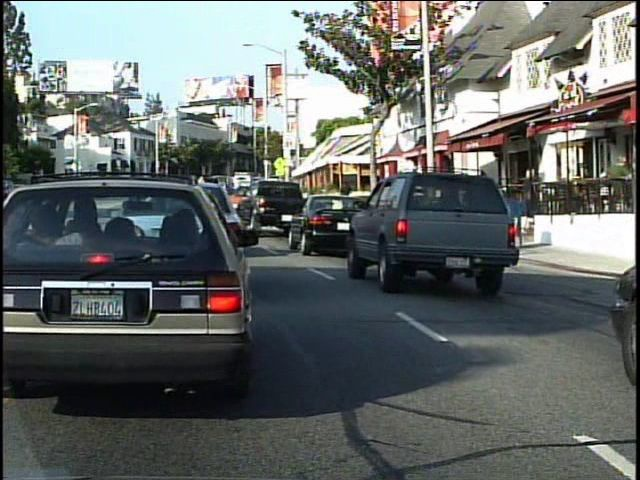person: (599, 150, 633, 234), (513, 161, 548, 231)
